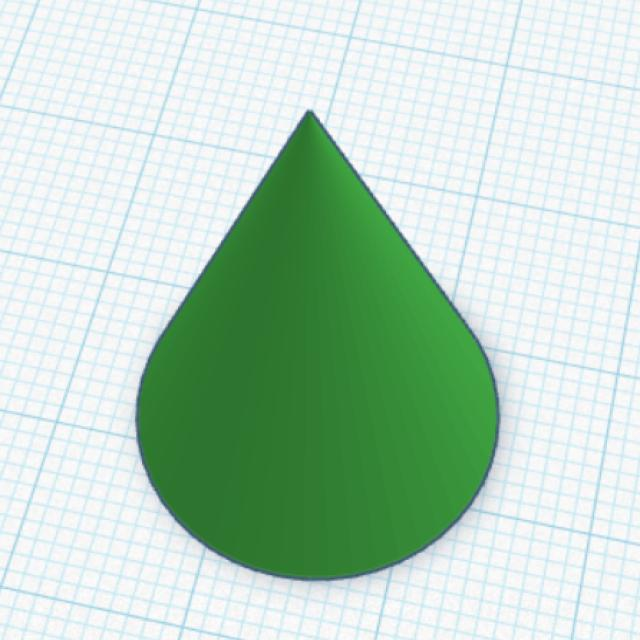cone: (130, 104, 506, 586)
